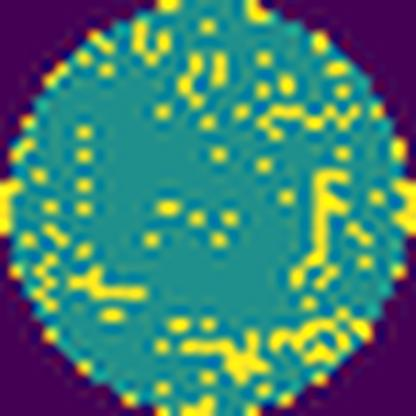Edge-Loc: (290, 166, 348, 287), (176, 331, 265, 381)
